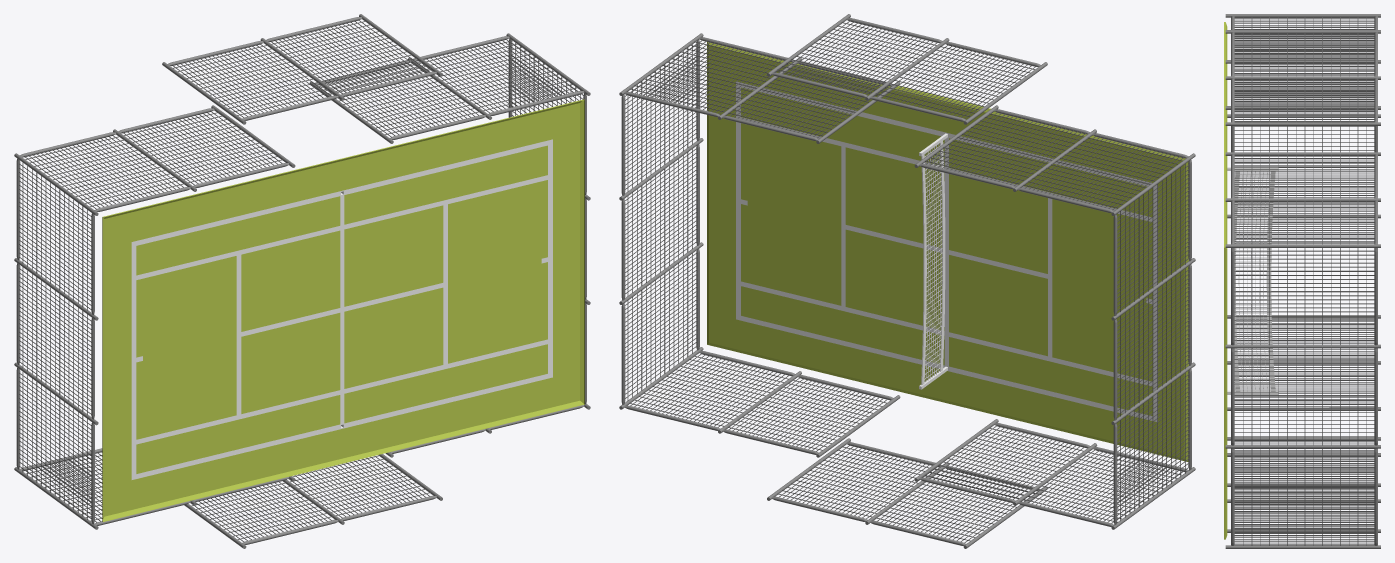
Rendered from Tennis Court.fbx.
The picture shows the model from 3 angles, left to right: view 1: azimuth 30°, elevation 25°; view 2: azimuth 150°, elevation 25°; view 3: azimuth 270°, elevation 25°; orthographic projection. The views are drawn at different scales.
Visible parts, largest first — view 1: Plane; view 2: Plane; view 3: Plane.
Boxes of the visible parts, x1,y1,x2,y2 form: Plane: (14,14,590,548); Plane: (619,14,1195,548); Plane: (1224,14,1380,548).
Size of the model in its own units: 24.49 by 20.2 by 7.
